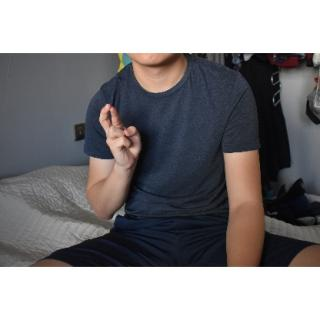ZAY: (97, 96, 144, 172)
